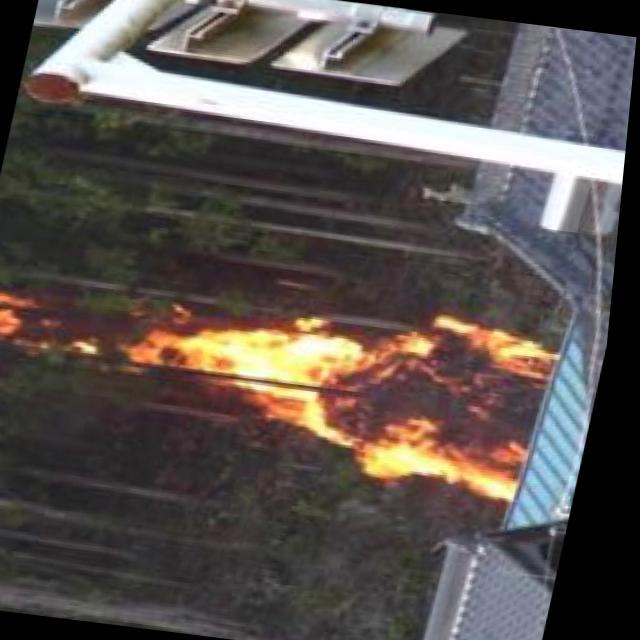fire: (124, 274, 572, 500), (0, 277, 68, 358)
